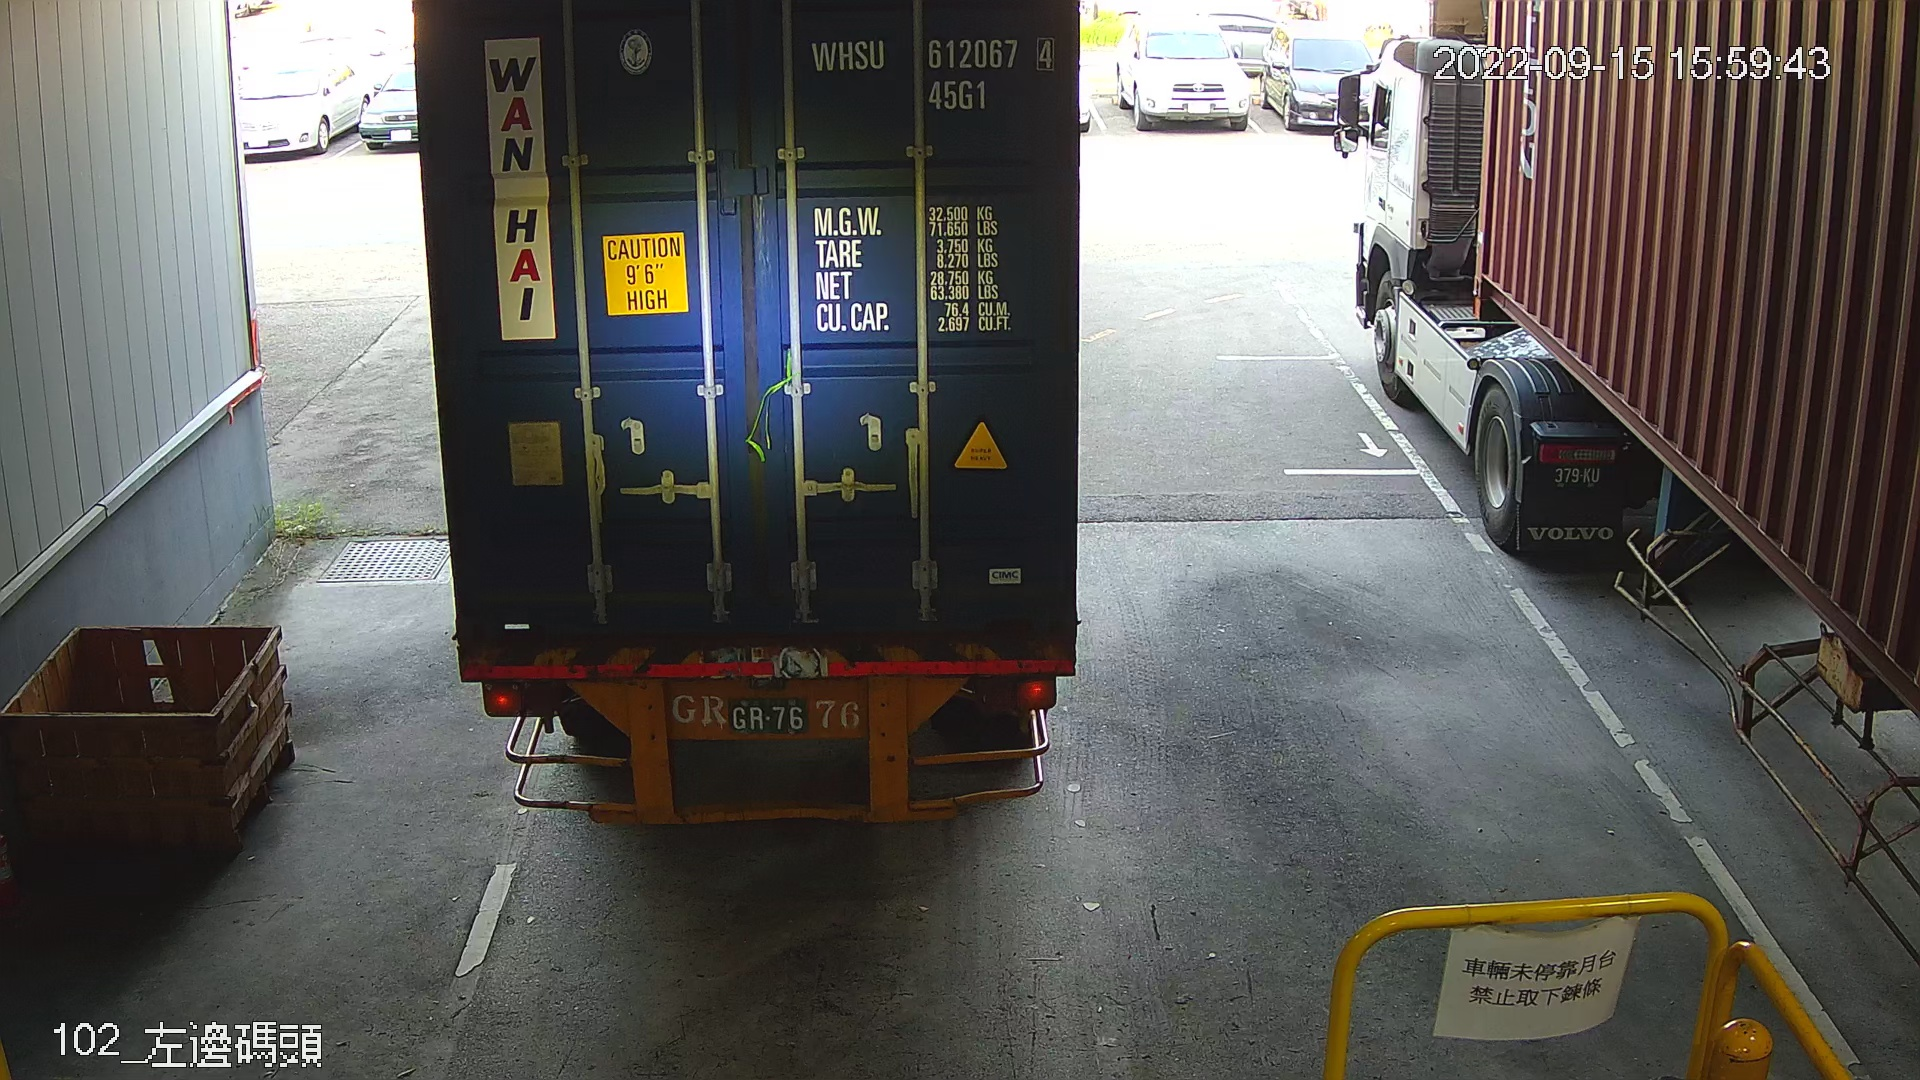container: (800, 30, 1064, 119)
